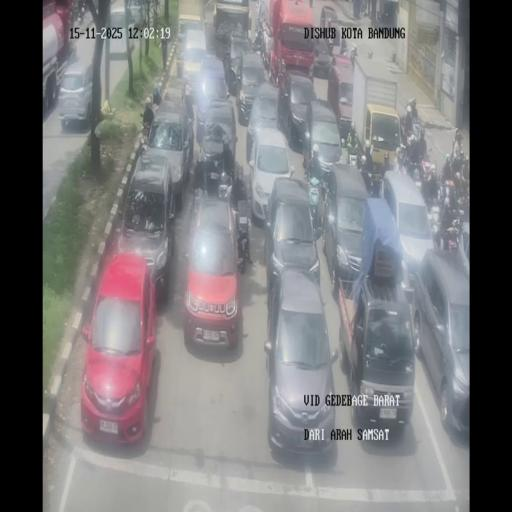3: (266, 0, 316, 87), (362, 102, 404, 182), (212, 2, 253, 48)
car: (80, 251, 158, 443), (265, 266, 336, 457), (341, 268, 418, 438), (411, 246, 468, 440), (182, 195, 244, 350), (118, 155, 178, 294), (382, 169, 436, 286), (324, 163, 371, 290), (248, 125, 294, 227), (194, 100, 237, 187), (304, 96, 342, 180), (58, 59, 96, 132), (235, 51, 267, 125), (180, 28, 208, 94), (330, 56, 356, 124), (123, 0, 146, 28), (320, 5, 340, 37), (176, 45, 184, 78)
truck: (305, 168, 323, 232), (436, 212, 462, 252), (187, 186, 204, 246), (236, 212, 253, 268), (404, 148, 426, 184), (217, 173, 237, 204), (404, 106, 422, 140), (184, 102, 195, 152), (439, 178, 456, 210), (346, 136, 362, 168), (454, 186, 468, 220), (252, 25, 264, 57), (370, 170, 383, 198), (140, 118, 152, 144), (180, 77, 190, 104), (396, 144, 408, 166), (76, 2, 85, 25), (349, 44, 357, 68), (340, 40, 349, 58), (326, 35, 334, 55), (68, 2, 74, 26), (360, 0, 367, 17)
